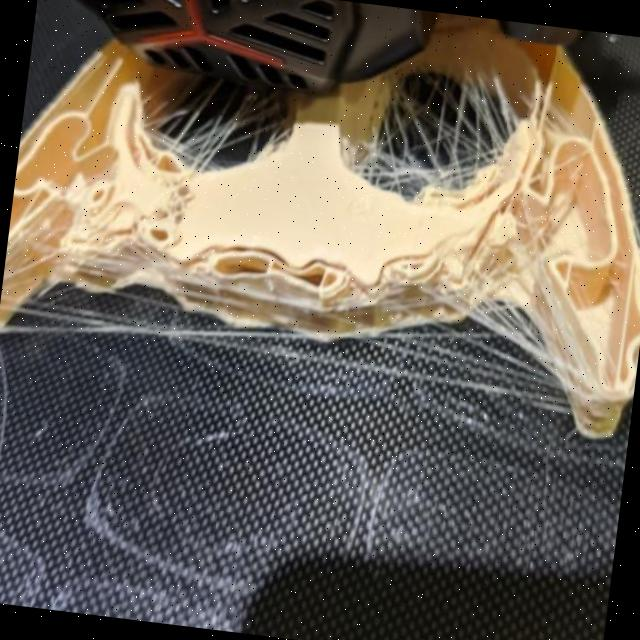stringing: (381, 56, 518, 202), (140, 62, 283, 180), (472, 286, 540, 342)
